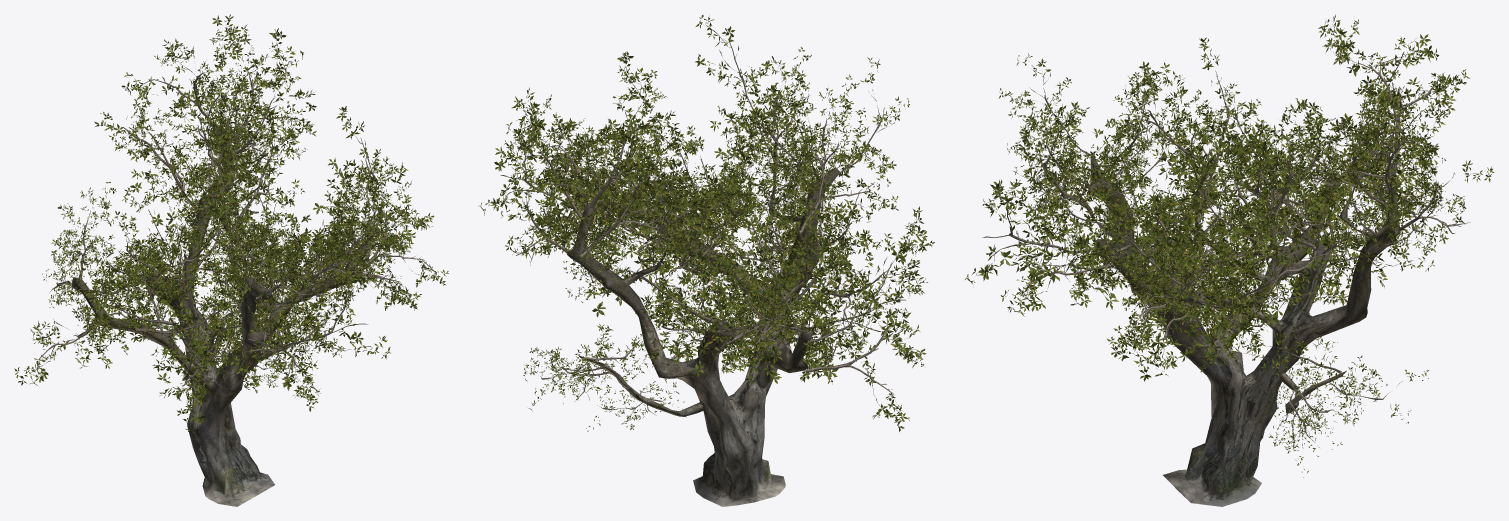
File: island_tree_01.glb
The picture shows the model from 3 angles, left to right: view 1: azimuth 30°, elevation 25°; view 2: azimuth 150°, elevation 25°; view 3: azimuth 270°, elevation 25°; orthographic projection. The views are drawn at different scales.
Visible parts, largest first — view 1: island_tree_01_LOD0; view 2: island_tree_01_LOD0; view 3: island_tree_01_LOD0.
Boxes of the visible parts, x1,y1,x2,y2 form: island_tree_01_LOD0: (14, 14, 448, 506); island_tree_01_LOD0: (478, 15, 934, 506); island_tree_01_LOD0: (965, 14, 1494, 506).
Size of the model in its own units: 4.76 by 5.02 by 4.82.
Materials: 3 (3 with a texture image).
